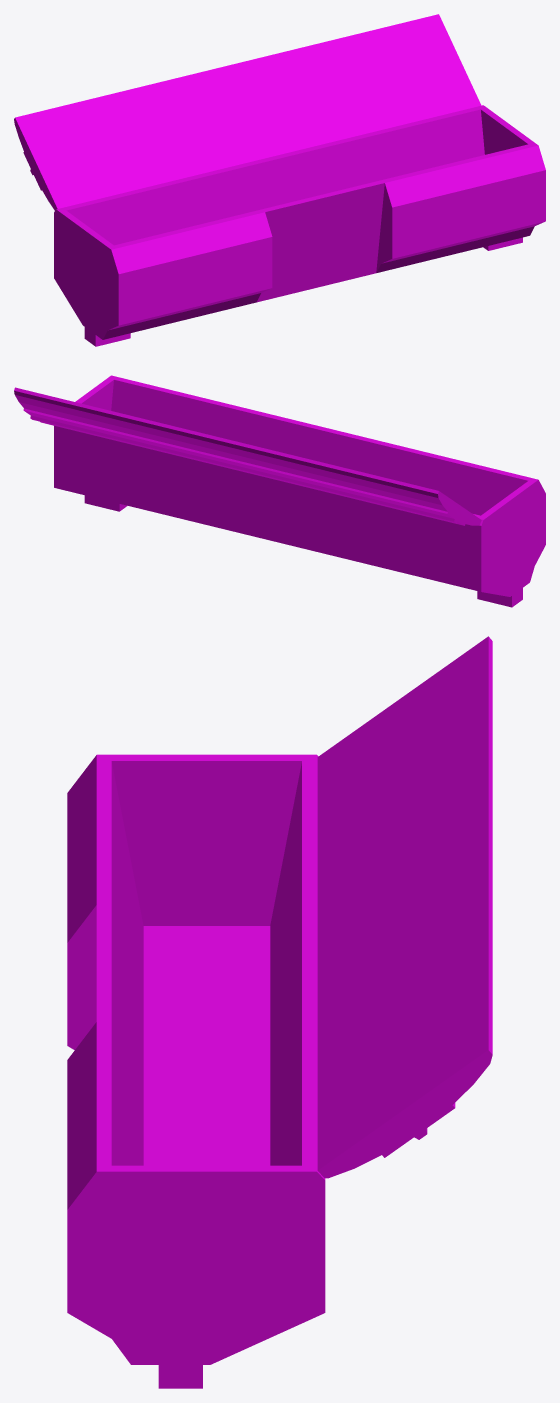
Rendered from SemoirVide.fbx.
The picture shows the model from 3 angles, top to bottom: view 1: azimuth 30°, elevation 25°; view 2: azimuth 150°, elevation 25°; view 3: azimuth 270°, elevation 25°; orthographic projection. The views are drawn at different scales.
Visible parts, largest first — view 1: GrandReservoir.001; view 2: GrandReservoir.001; view 3: GrandReservoir.001.
Boxes of the visible parts, box(x1,y1,x2,y2) form: GrandReservoir.001: box(14, 14, 545, 346); GrandReservoir.001: box(14, 375, 545, 607); GrandReservoir.001: box(67, 636, 492, 1388).
Size of the model in its own units: 489 by 184 by 211.
